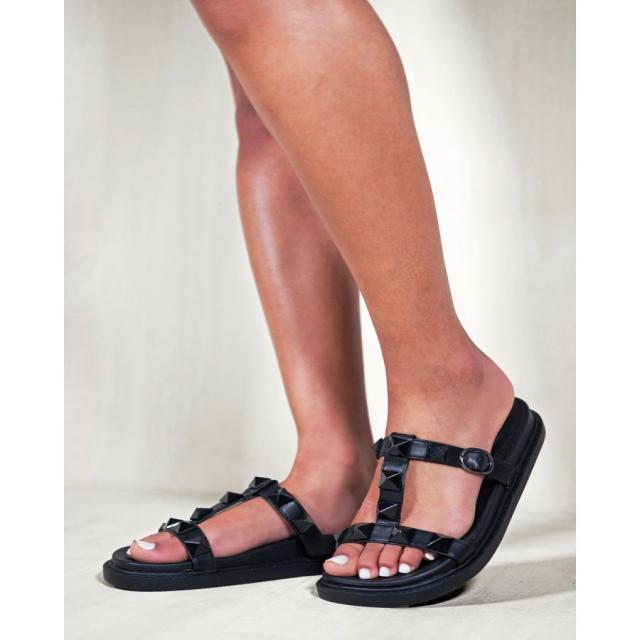Sandals: (315, 372, 548, 610), (101, 459, 380, 592)
